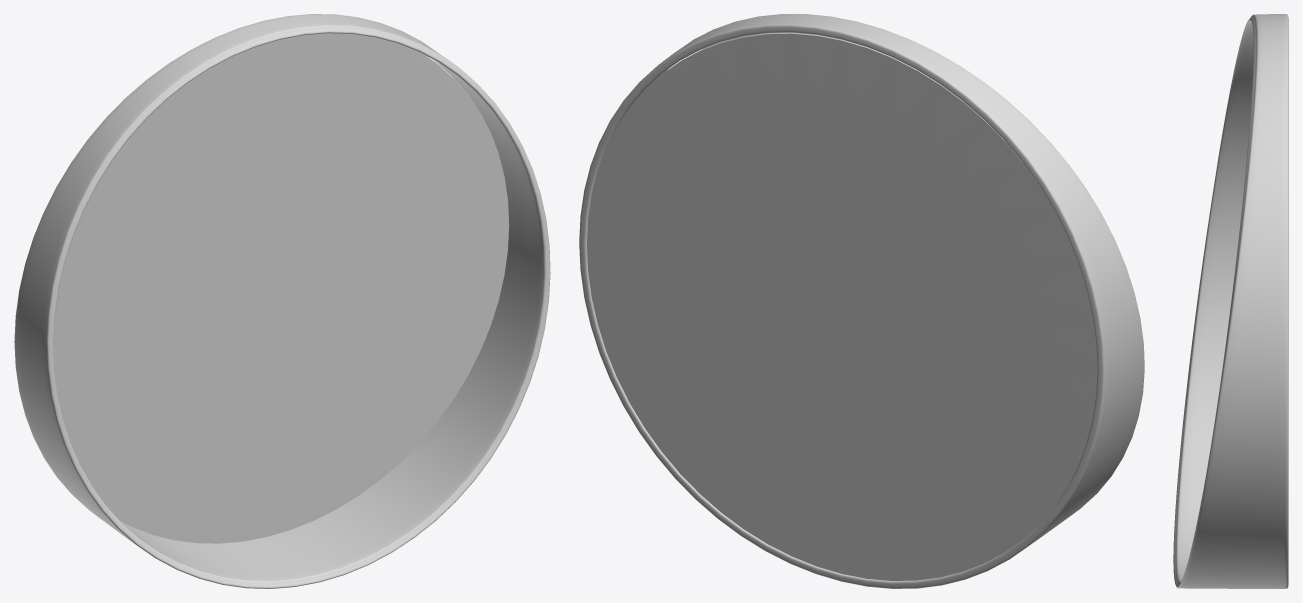
File: Mirror_009.gltf
3 views of the same model, side by side, from view 1: azimuth 30°, elevation 25°; view 2: azimuth 150°, elevation 25°; view 3: azimuth 270°, elevation 25° (orthographic). The views are drawn at different scales.
Visible parts, largest first — view 1: Mirror_009; view 2: Mirror_009; view 3: Mirror_009.
Part boxes in pixels (bbox=[...]): Mirror_009: bbox=[14, 14, 550, 588]; Mirror_009: bbox=[579, 14, 1144, 588]; Mirror_009: bbox=[1173, 14, 1288, 588].
Size of the model in its own units: 0.8196 by 0.8141 by 0.163.
1 material, 1 textured.
